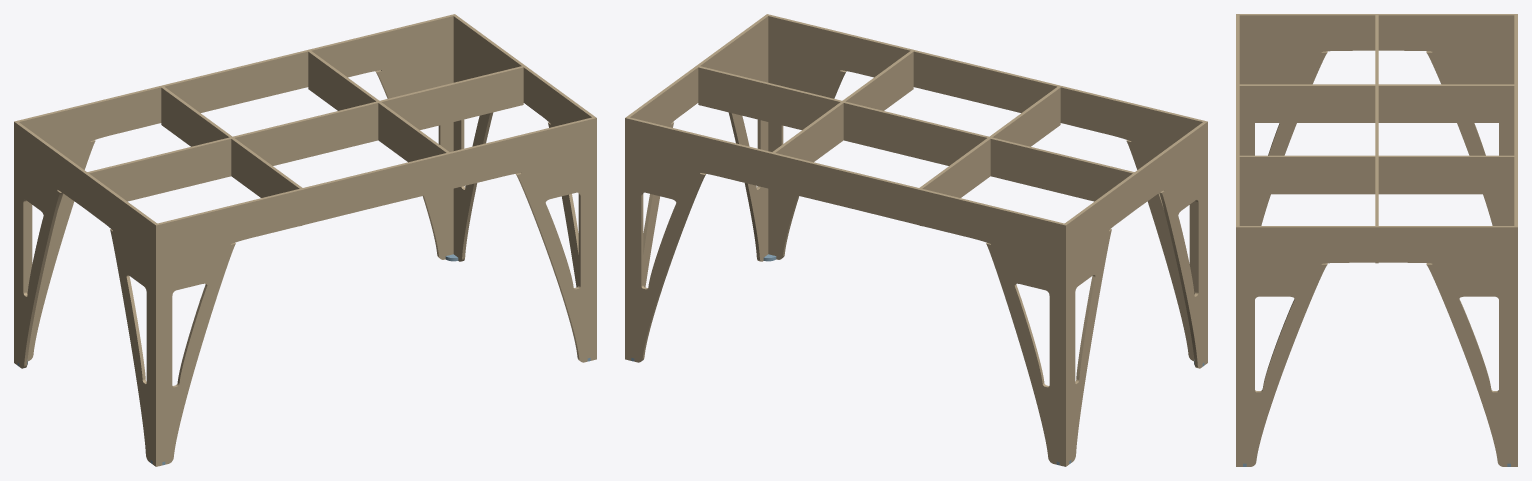
Rendered from flow-v31-design-only.glb.
The picture shows the model from 3 angles, left to right: view 1: azimuth 30°, elevation 25°; view 2: azimuth 150°, elevation 25°; view 3: azimuth 270°, elevation 25°; orthographic projection.
Visible parts, largest first — view 1: L_south, LC, L_north, LEG_A_SW, LEG_A_SE, W_west, LEG_B_NW, LEG_B_SW, C_2, C_1, LEG_A_NE, W_east (+3 smaller); view 2: L_north, LC, L_south, LEG_A_NW, LEG_A_NE, W_west, LEG_B_SW, LEG_B_NW, C_2, C_1, LEG_A_SE, W_east (+3 smaller); view 3: C_2, C_1, W_east, W_west, LEG_B_NE, LEG_B_SE, LEG_B_NW, LEG_B_SW, L_south, L_north, LC, LEG_A_SE (+1 smaller).
Part boxes in pixels (<box>): L_south: <box>154,117,596,262</box>; LC: <box>84,66,523,204</box>; L_north: <box>14,14,456,159</box>; LEG_A_SW: <box>154,241,235,466</box>; LEG_A_SE: <box>516,155,596,362</box>; W_west: <box>14,122,159,261</box>; LEG_B_NW: <box>14,160,62,368</box>; LEG_B_SW: <box>110,228,159,465</box>; C_2: <box>308,51,451,190</box>; C_1: <box>161,86,304,225</box>; LEG_A_NE: <box>375,52,453,259</box>; W_east: <box>453,15,596,150</box>; L_north: <box>625,117,1067,262</box>; LC: <box>698,66,1137,204</box>; L_south: <box>765,14,1207,159</box>; LEG_A_NW: <box>986,241,1067,466</box>; LEG_A_NE: <box>625,155,705,362</box>; W_west: <box>1062,122,1207,261</box>; LEG_B_SW: <box>1159,160,1207,368</box>; LEG_B_NW: <box>1062,228,1111,465</box>; C_2: <box>770,51,913,190</box>; C_1: <box>917,86,1060,225</box>; LEG_A_SE: <box>768,52,846,259</box>; W_east: <box>625,15,768,150</box>; C_2: <box>1239,155,1514,194</box>; C_1: <box>1239,84,1514,122</box>; W_east: <box>1236,226,1517,264</box>; W_west: <box>1239,14,1514,52</box>; LEG_B_NE: <box>1426,261,1517,466</box>; LEG_B_SE: <box>1236,261,1327,466</box>; LEG_B_NW: <box>1426,49,1514,225</box>; LEG_B_SW: <box>1239,49,1327,225</box>; L_south: <box>1236,14,1239,264</box>; L_north: <box>1514,14,1517,264</box>; LC: <box>1375,15,1378,263</box>; LEG_A_SE: <box>1236,264,1239,466</box>.
Size of the model in its own units: 0.86 by 0.45 by 0.48.
